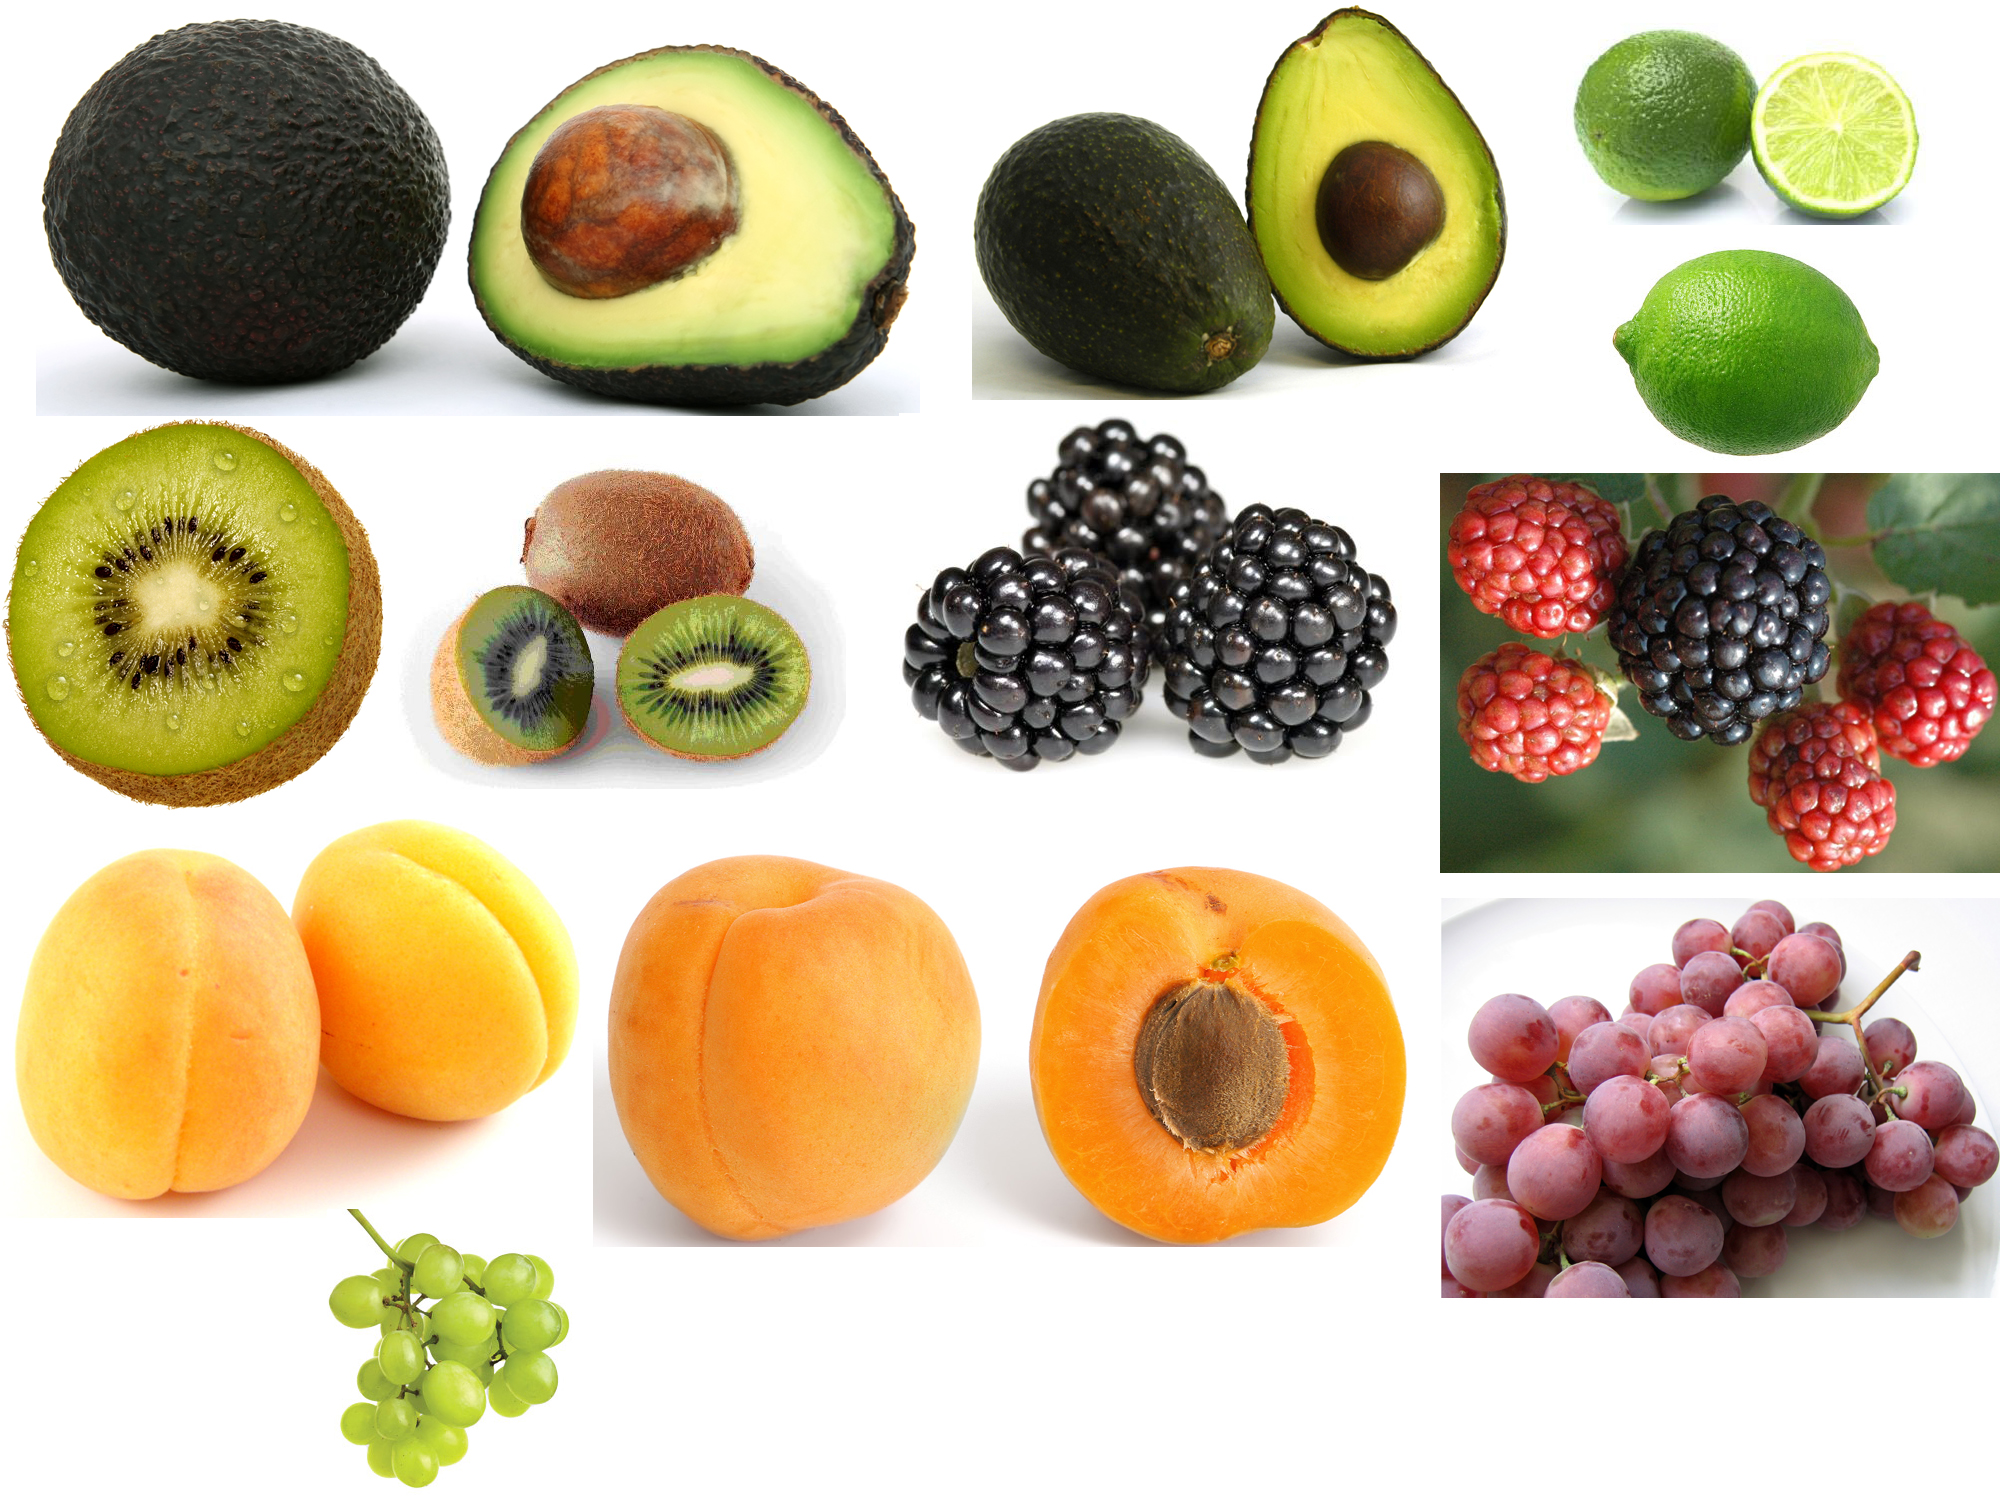Apricot - (35 grams - 17 calories): (1028, 847, 1415, 1278), (607, 843, 979, 1248), (9, 848, 345, 1205), (275, 826, 589, 1135)
Avocado - (146 grams - 234 calories): (469, 27, 936, 419), (35, 27, 463, 397), (1216, 9, 1522, 379), (960, 87, 1275, 415)
Blueberry - (68 grams - 39 calories): (894, 540, 1160, 780), (1172, 510, 1404, 773), (1625, 478, 1836, 741), (1007, 414, 1245, 593), (1750, 688, 1921, 891), (1832, 571, 1994, 782), (1441, 470, 1629, 639), (1460, 639, 1619, 787)
Grape - (92 grams - 62 calories): (1452, 895, 2000, 1311), (301, 1212, 577, 1492)
Kiwi - (69 grams - 42 calories): (13, 414, 404, 810), (510, 456, 799, 629), (612, 607, 832, 769), (422, 588, 607, 773)
Lime - (67 grams - 20 calories): (1614, 244, 1902, 470), (1555, 20, 1762, 220), (1770, 24, 1939, 227)
Mango and Apple tropical smoothie: (13, 2, 2000, 1493)
